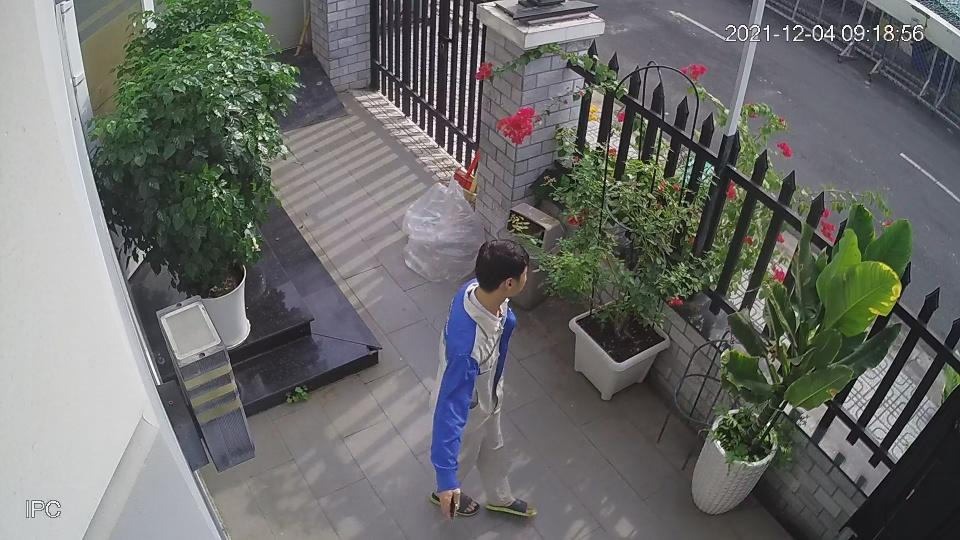person: (432, 234, 540, 521)
